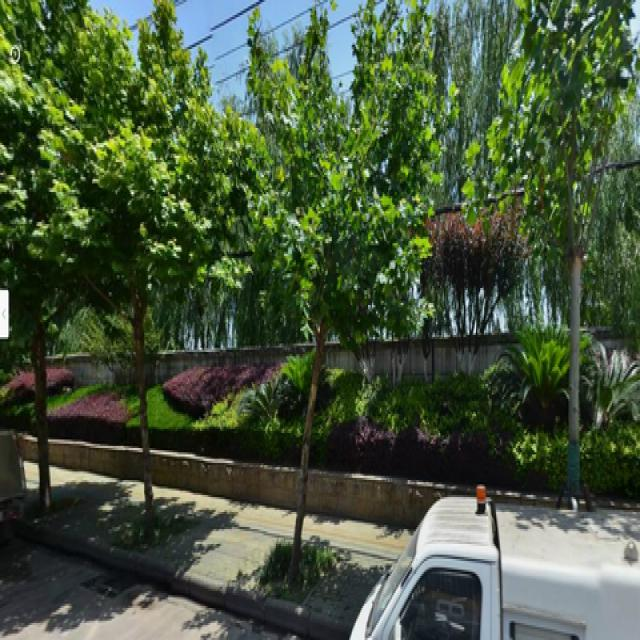meta: (269, 85, 400, 566)
